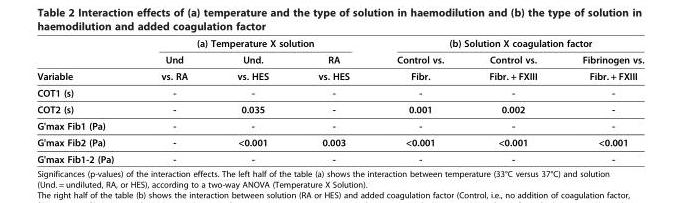table: (36, 37, 643, 164)
table column: (36, 37, 136, 164), (465, 37, 559, 164), (372, 37, 465, 164), (559, 37, 643, 164), (211, 37, 292, 164), (292, 37, 372, 164), (136, 37, 211, 164)
table column header: (36, 37, 643, 67)
table row: (36, 67, 643, 84), (36, 100, 643, 117), (36, 133, 643, 150), (36, 51, 643, 67), (36, 84, 643, 100), (36, 117, 643, 133), (36, 37, 643, 51), (36, 150, 643, 164)
table spanning cell: (372, 37, 643, 51), (136, 37, 372, 51)
